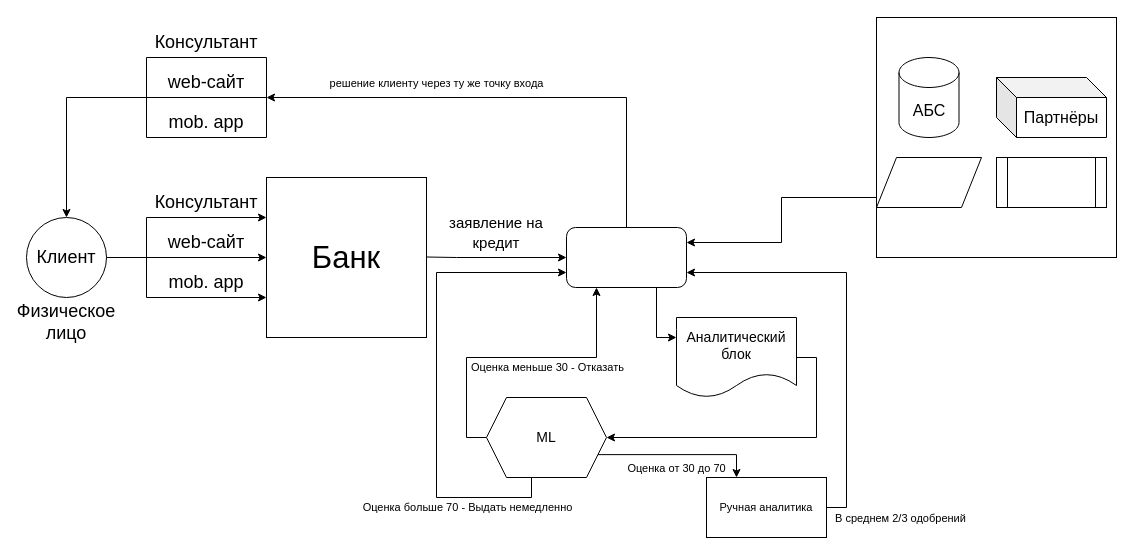
Image size: 1134x555. Some labels were removed from this diagram. Each missing label, with the box of its shape:
Блок принятия решений: (566, 226, 686, 288)
Бюро кредитных историй: (876, 156, 982, 208)
Открытые источники: (996, 156, 1106, 208)
